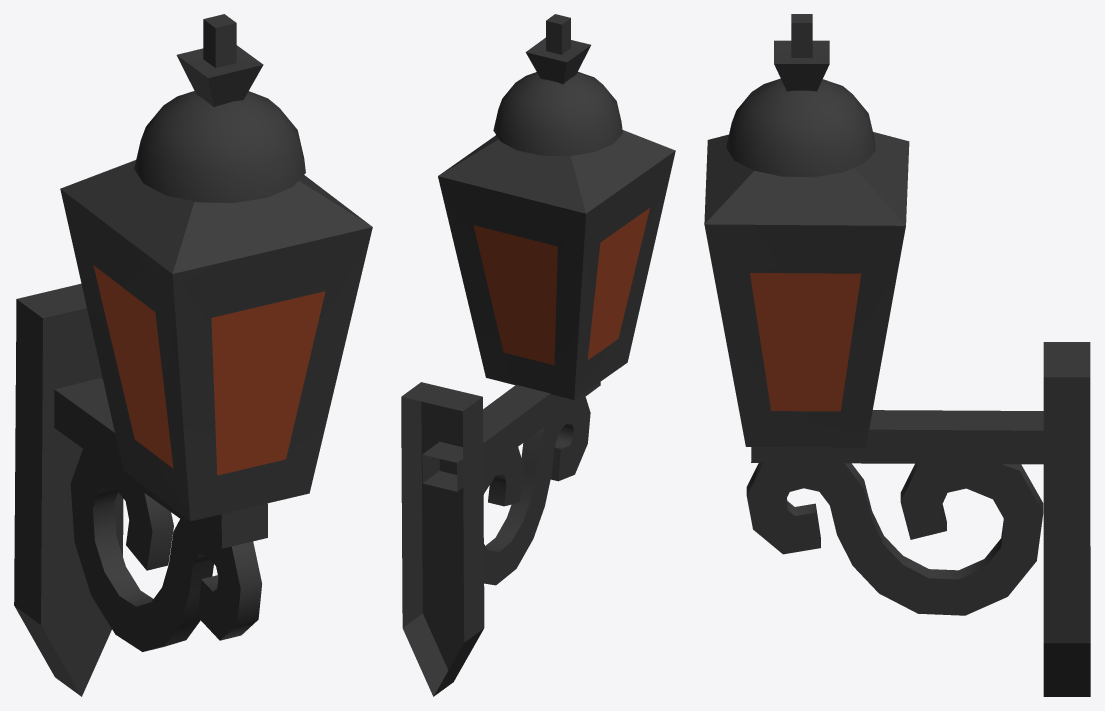
The model's file is cstl_wallLattern_01.fbx.
3 renders of one model, left to right at view 1: azimuth 30°, elevation 25°; view 2: azimuth 150°, elevation 25°; view 3: azimuth 270°, elevation 25°, orthographic. The views are drawn at different scales.
Parts seen in each view (by area): view 1: cstl_wallLattern_01; view 2: cstl_wallLattern_01; view 3: cstl_wallLattern_01.
Boxes of the visible parts, x1,y1,x2,y2 form: cstl_wallLattern_01: (14, 14, 372, 696); cstl_wallLattern_01: (401, 14, 675, 696); cstl_wallLattern_01: (704, 14, 1090, 696).
Bounding box in the file's own units: 43.63 × 161 × 82.85.
